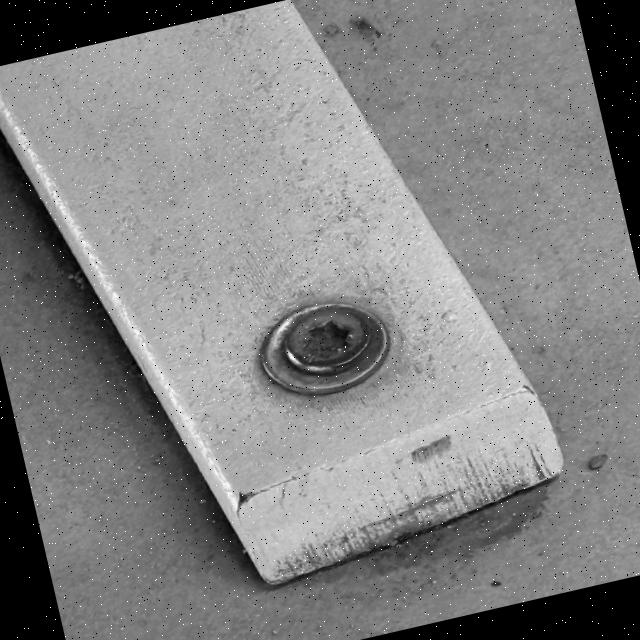Torx: (272, 292, 390, 382)
